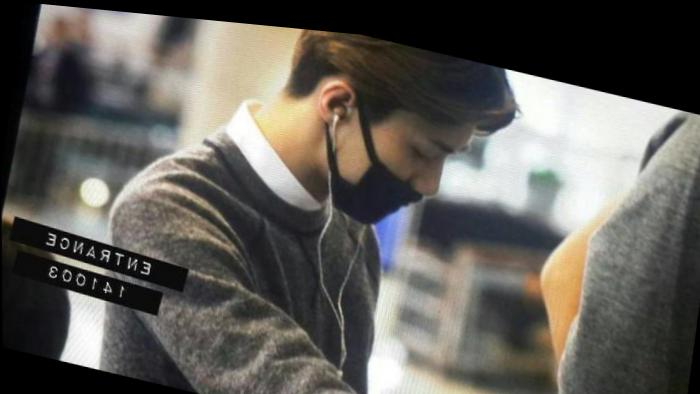WRONG: (326, 91, 469, 238)
